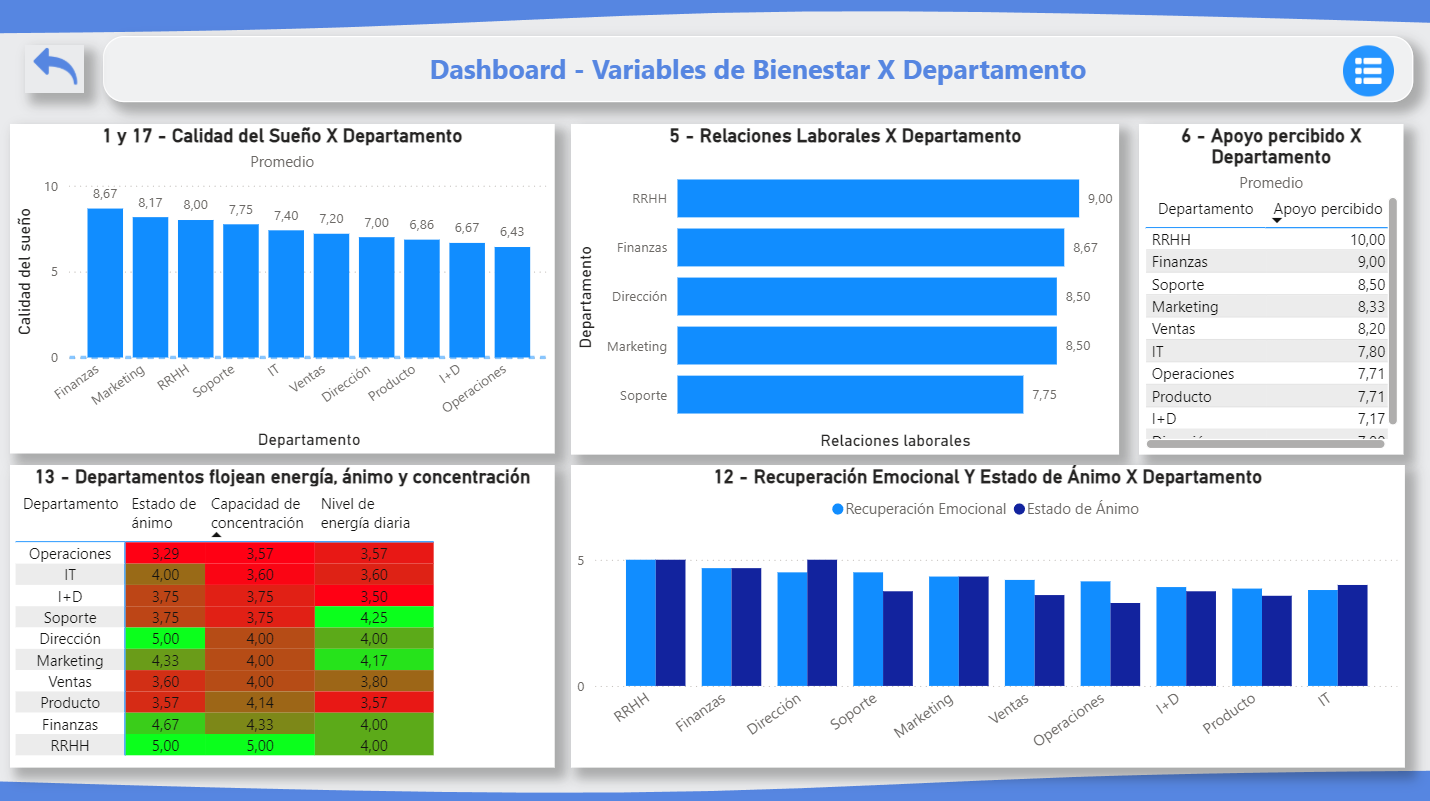

Layout of this report page (visuals, bound fields, positions):
{"tool":"powerbi","page":{"name":"Dashboard Dep 1","canvas":[1280,720],"ordinal":1},"visuals":[{"type":"textbox","box":[94,32.5,1168.7,58.8],"z":0},{"type":"actionButton","box":[24.5,39.7,52.6,43.2],"z":1000},{"type":"columnChart","title":"1 y 17 - Calidad del Sueño X Departamento","fields":{"Category":["dataset_respuestas_100_empleado.Departamento"],"Y":["Avg(dataset_respuestas_100_empleado.Calidad del sueño (1-10))"]},"box":[10.5,110.9,485.8,294.3],"z":2000},{"type":"barChart","title":"5 - Relaciones Laborales X Departamento","fields":{"Category":["dataset_respuestas_100_empleado.Departamento"],"Y":["Avg(dataset_respuestas_100_empleado.Relaciones laborales (1-10))"]},"box":[511,110.6,489.1,295],"z":3000},{"type":"tableEx","title":"6 - Apoyo percibido X Departamento","fields":{"Values":["dataset_respuestas_100_empleado.Departamento","Avg(dataset_respuestas_100_empleado.Apoyo percibido (1-10))"]},"box":[1018.3,110.4,236.1,294.8],"z":4000},{"type":"pivotTable","title":"13 - Departamentos flojean energía, ánimo y concentración","fields":{"Rows":["dataset_respuestas_100_empleado.Departamento"],"Values":["Avg(dataset_respuestas_100_empleado.Estado de ánimo (1-5))","Avg(dataset_respuestas_100_empleado.Capacidad de concentración (1-5))","Avg(dataset_respuestas_100_empleado.Nivel de energía diaria (1-5))"]},"box":[10.6,414.6,486.3,270.1],"z":5000},{"type":"clusteredColumnChart","title":"12 - Recuperación Emocional Y Estado de Ánimo X Departamento","fields":{"Y":["Avg(dataset_respuestas_100_empleado.Recuperación emocional (1-5))","Avg(dataset_respuestas_100_empleado.Estado de ánimo (1-5))"],"Category":["dataset_respuestas_100_empleado.Departamento"]},"box":[511,414.4,743.7,270.4],"z":7000},{"type":"image","box":[1190,34.4,64.4,56.7],"z":9000},{"type":"actionButton","box":[1190,33.3,64.4,57.8],"z":10000}]}

Visuals, with their boxes in screenshot pixels (x1, y1, x2, y2), scaled from the page's 1280x720 canvas onto the 1430x801 screenshot:
textbox: select_region(105, 36, 1411, 102)
actionButton: select_region(27, 44, 86, 92)
"1 y 17 - Calidad del Sueño X Departamento" columnChart: select_region(12, 123, 554, 451)
"5 - Relaciones Laborales X Departamento" barChart: select_region(571, 123, 1117, 451)
"6 - Apoyo percibido X Departamento" tableEx: select_region(1138, 123, 1401, 451)
"13 - Departamentos flojean energía, ánimo y concentración" pivotTable: select_region(12, 461, 555, 762)
"12 - Recuperación Emocional Y Estado de Ánimo X Departamento" clusteredColumnChart: select_region(571, 461, 1402, 762)
image: select_region(1329, 38, 1401, 101)
actionButton: select_region(1329, 37, 1401, 101)
